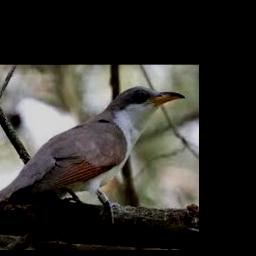Cuckoo: (0, 86, 184, 229)
